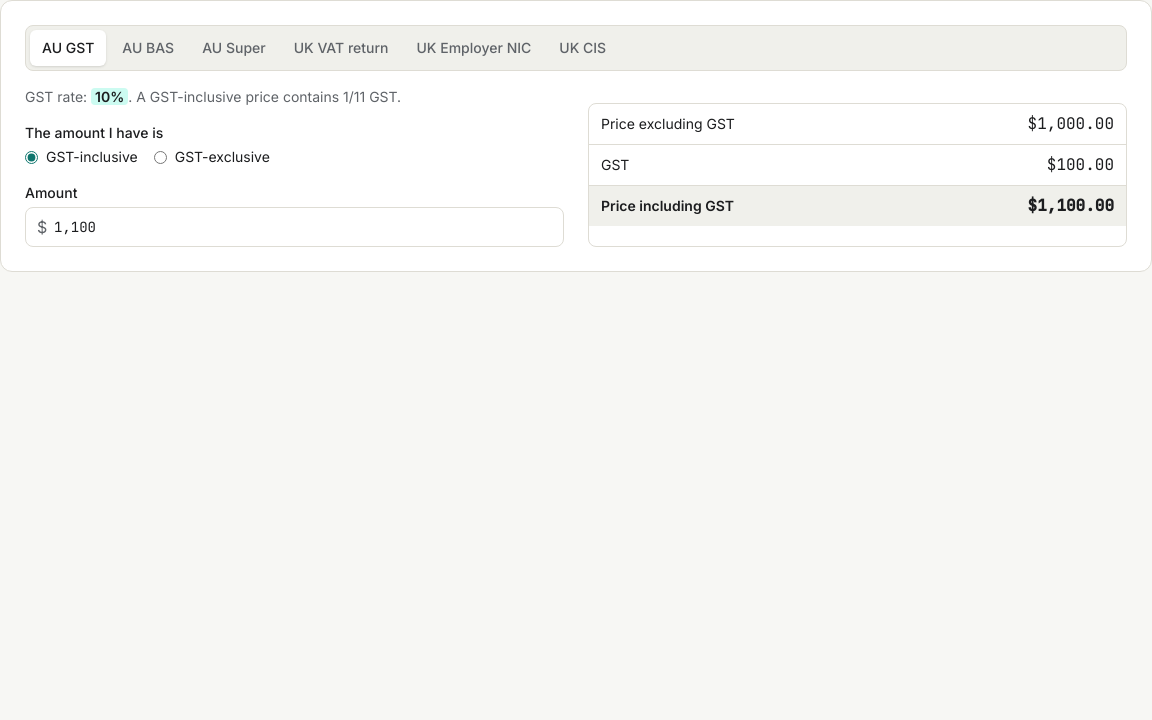
TaxCalculator › fills the BAS from the sample period
The width and height of the screenshot is (1152, 720).
Click the tab "AU BAS". click: click(148, 48)
box: [110,30,186,66]
(page scrolled)
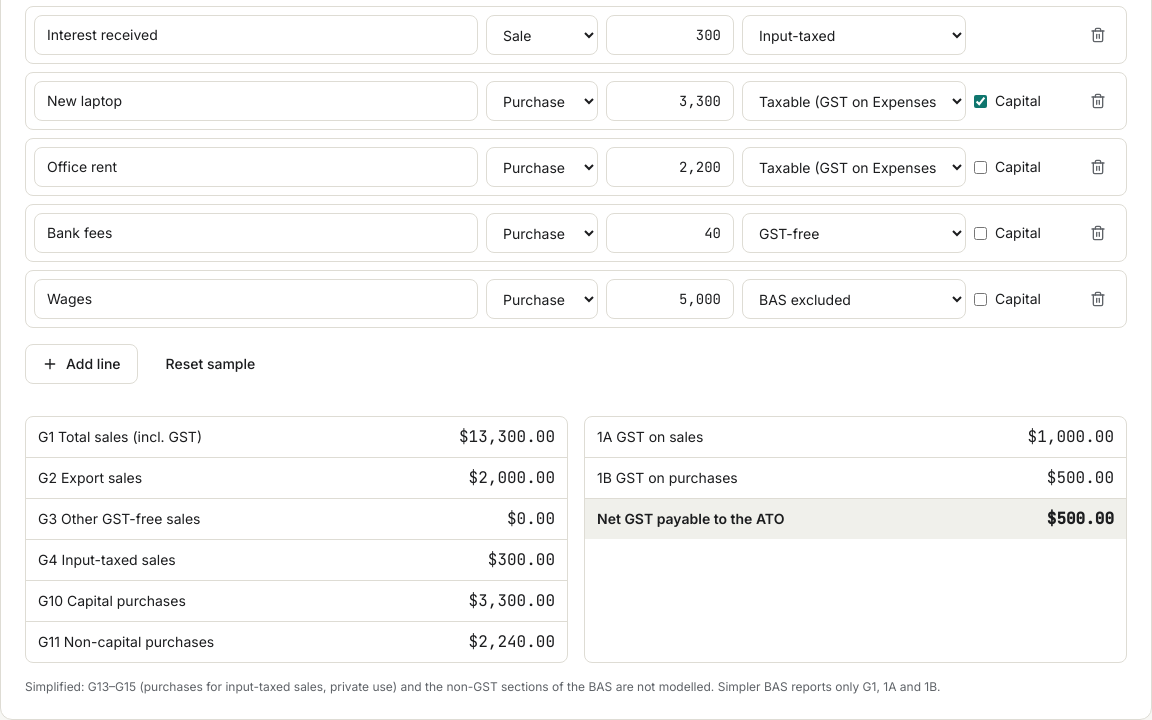
Expected: the text "$1,000.00" is shown, [1028,425,1114,449]
Expected: the text "$500.00" in the row of "Net GST payable to the ATO" is shown, [1047,508,1114,529]
